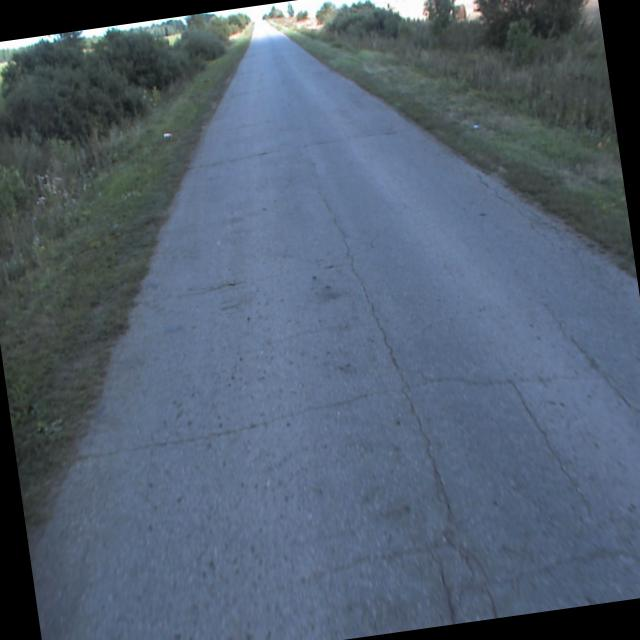road: (29, 19, 640, 640)
